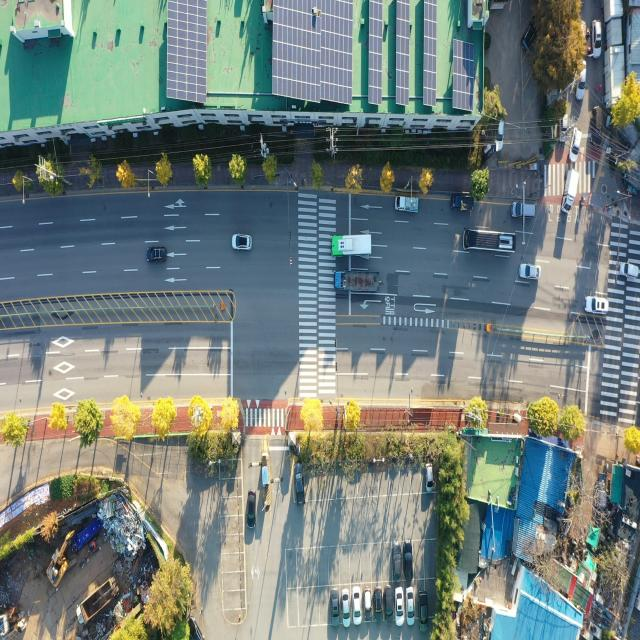car: (523, 12, 540, 51), (568, 126, 584, 163), (510, 199, 535, 221), (328, 587, 341, 629), (294, 462, 306, 506), (391, 539, 402, 584), (584, 296, 610, 315), (518, 262, 542, 282), (418, 590, 429, 633), (384, 584, 395, 625), (351, 586, 362, 626), (394, 584, 404, 628), (403, 540, 414, 580), (406, 586, 416, 626), (341, 588, 351, 628), (423, 462, 435, 494), (618, 261, 639, 279), (233, 234, 253, 252), (372, 586, 382, 622), (494, 119, 504, 154), (593, 107, 602, 144), (247, 491, 256, 527), (363, 586, 372, 622), (148, 247, 166, 263), (594, 22, 602, 58), (578, 63, 584, 97)
large_bus: (462, 226, 518, 257), (330, 230, 373, 256)
medium_truck: (77, 573, 120, 628), (333, 267, 380, 294)
small_truck: (560, 166, 580, 216), (450, 192, 474, 216), (394, 195, 420, 213)
